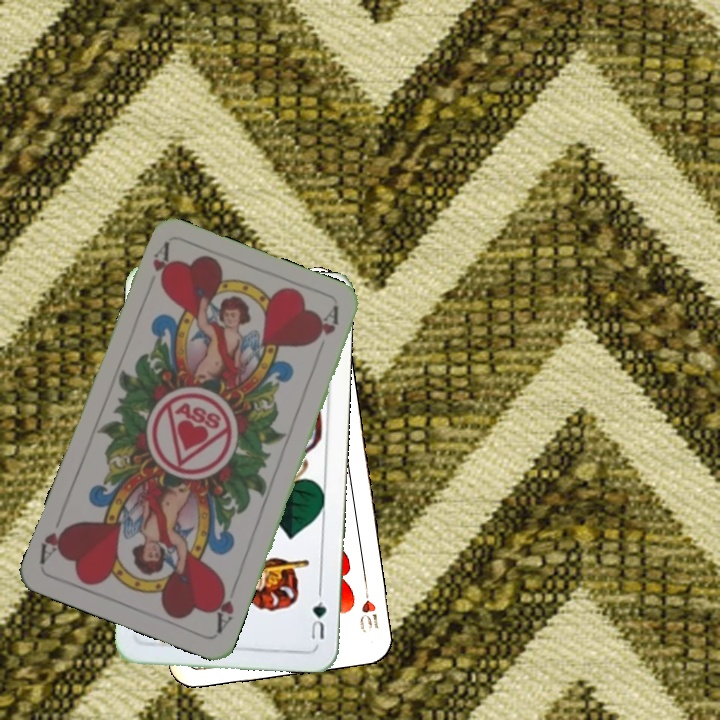GU: (307, 587, 329, 642)
H10: (355, 578, 382, 635)
HA: (210, 578, 240, 636), (148, 240, 175, 290)
